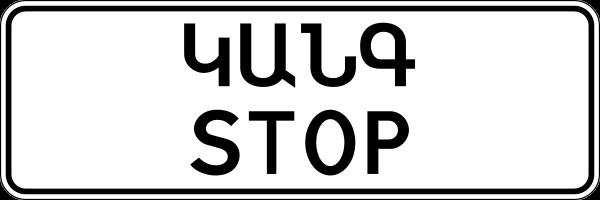Stop: (175, 89, 420, 193)
